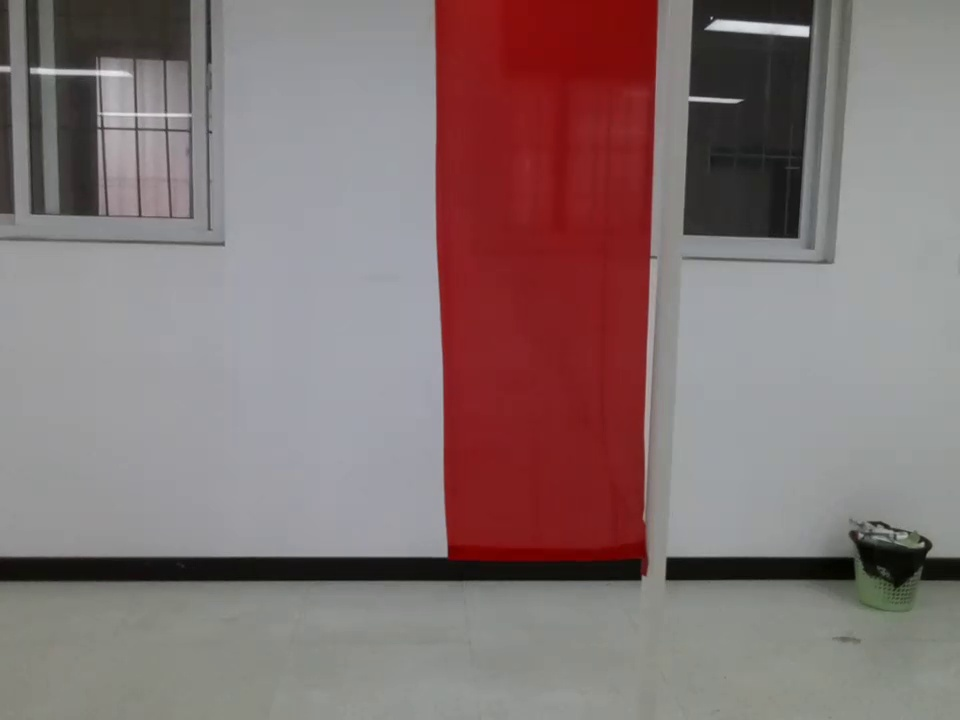qi: (416, 1, 684, 556)
